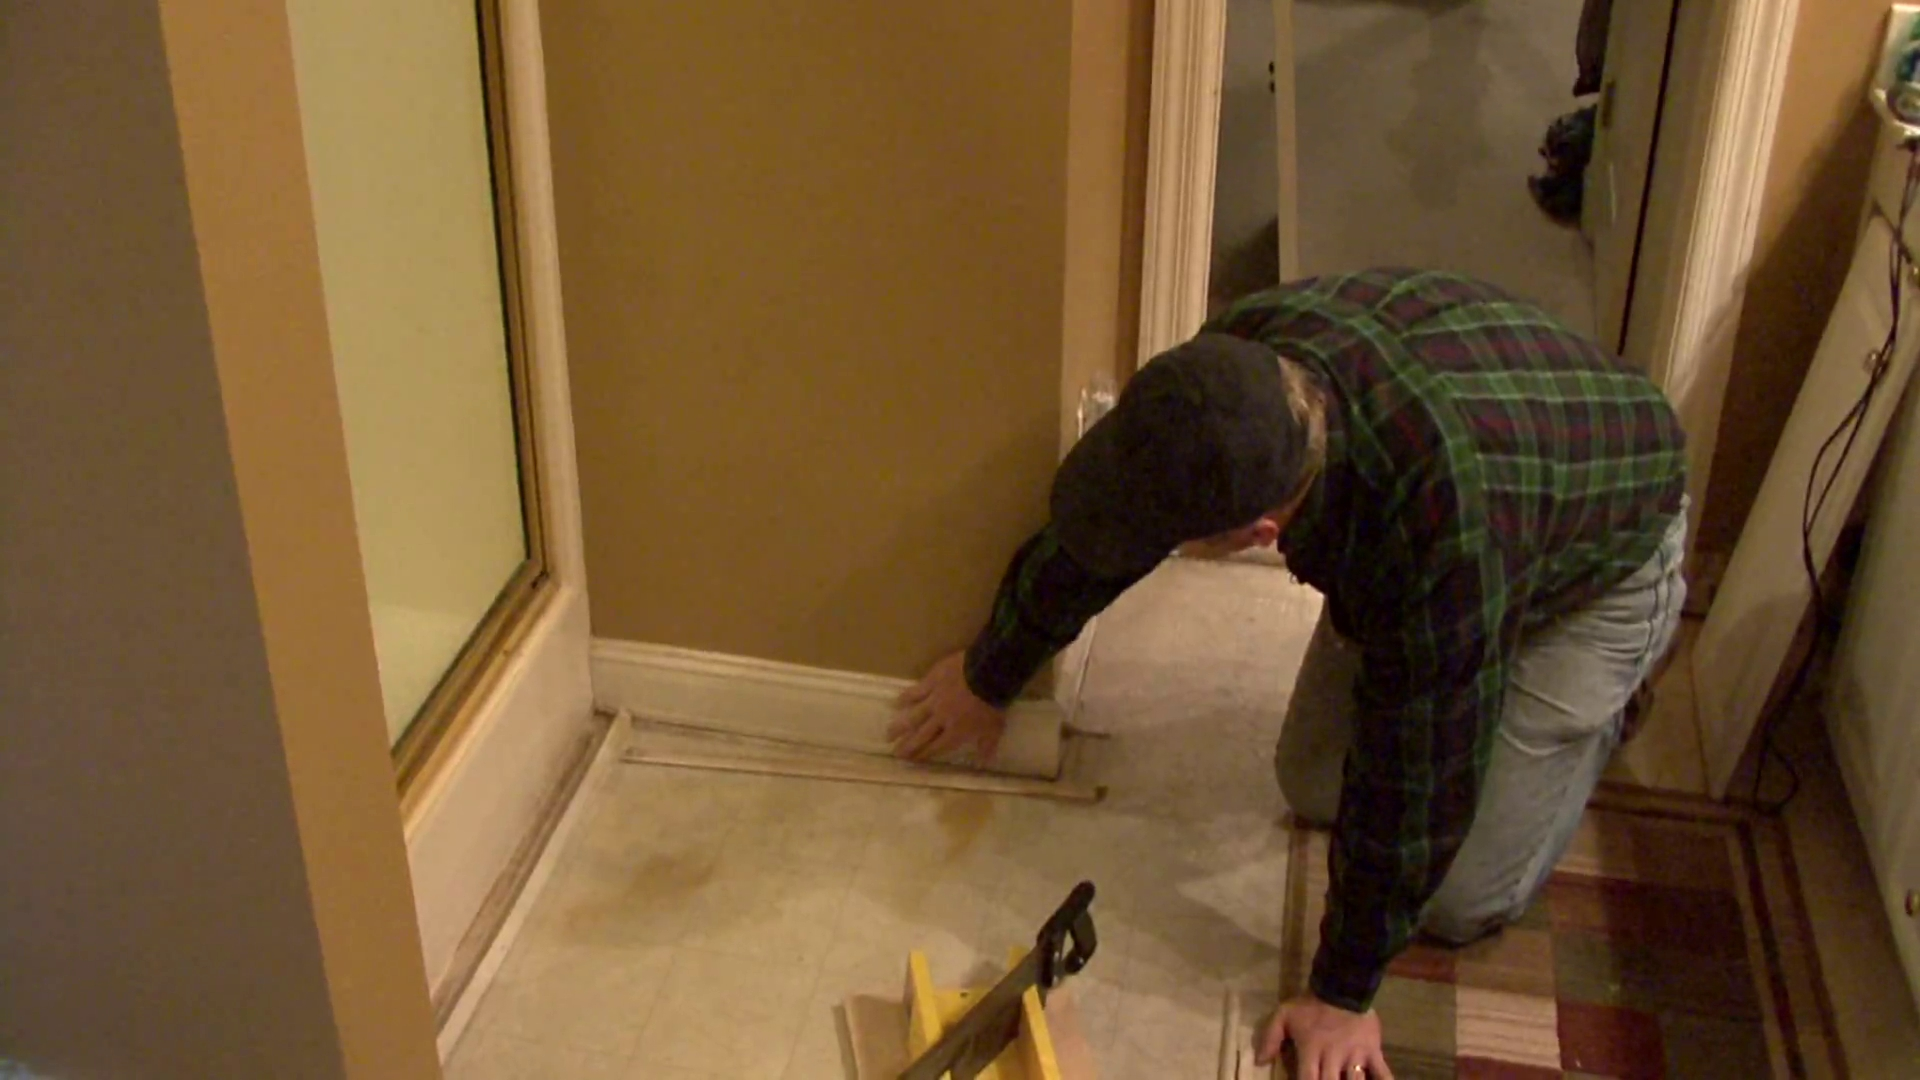person: (887, 266, 1686, 1080)
